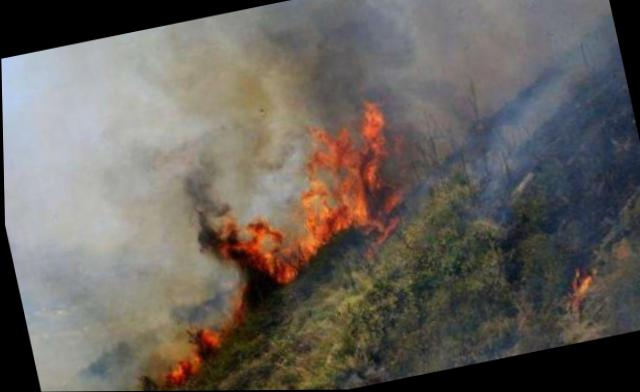fire: (104, 98, 434, 390), (565, 269, 597, 313)
